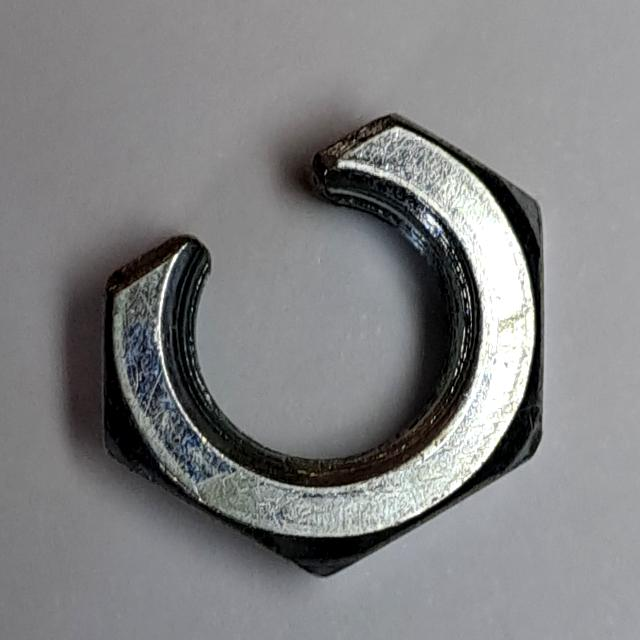Fracture: (92, 98, 560, 590)
